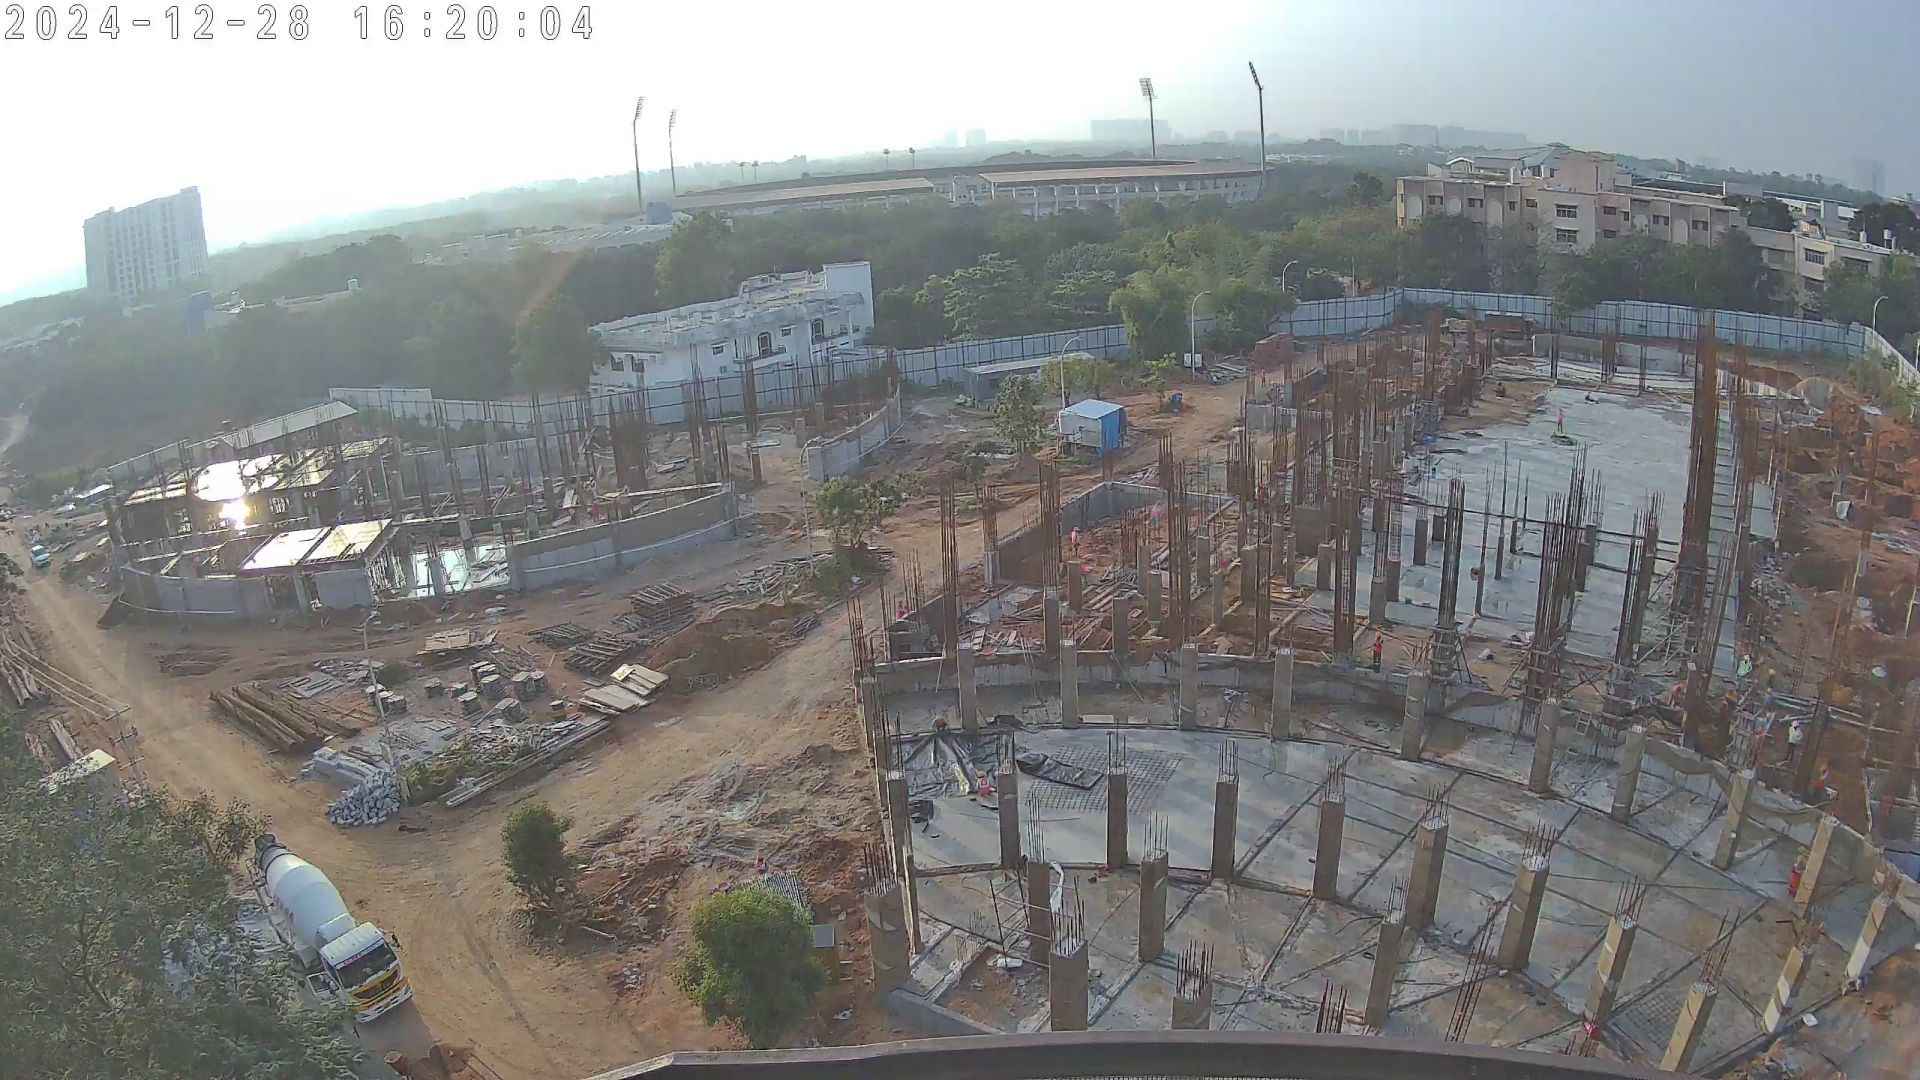car: (29, 540, 53, 573)
truck: (249, 828, 411, 1023), (1479, 308, 1543, 341)
worker: (1789, 840, 1810, 894), (1736, 654, 1756, 698), (1786, 718, 1803, 768), (1371, 626, 1387, 677), (1752, 723, 1767, 772), (976, 767, 996, 803), (1068, 523, 1086, 561), (1669, 680, 1686, 717), (928, 710, 953, 734), (1715, 695, 1728, 740), (1816, 760, 1830, 801), (1251, 476, 1266, 513), (1220, 547, 1235, 584), (1553, 406, 1566, 438), (892, 597, 908, 619), (1258, 366, 1269, 390)
